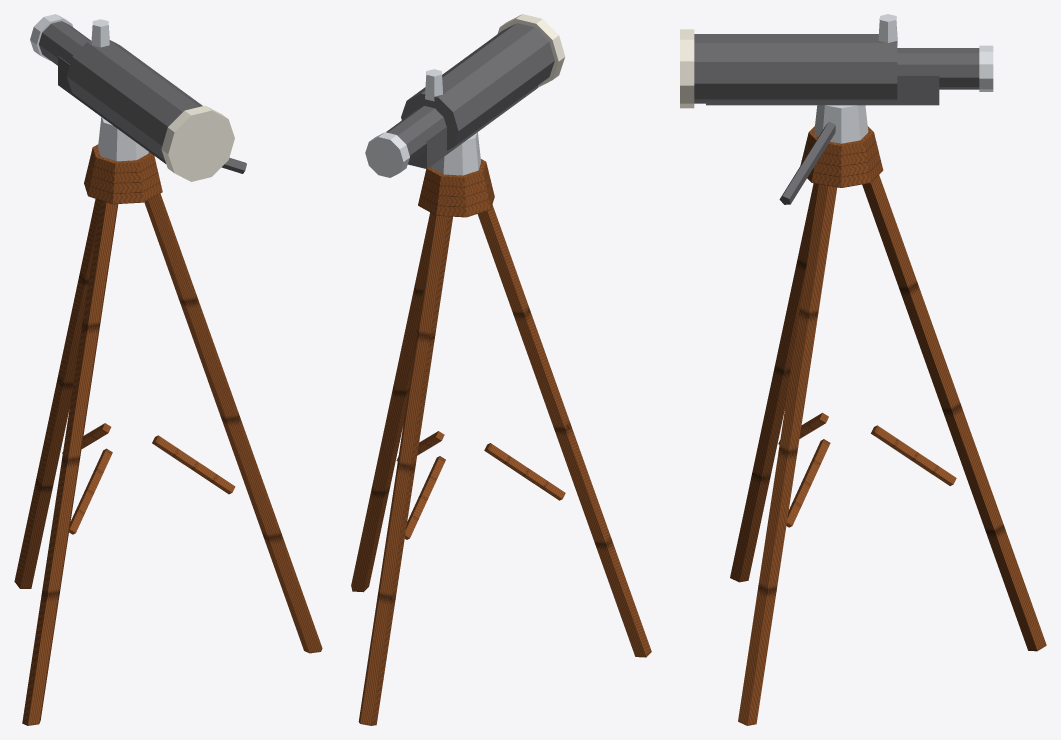
File: safari-camp-and-bush-lodge-spotting-scope-on-tripod-0c111e8c__37703.glb
3 renders of one model, left to right at view 1: azimuth 30°, elevation 25°; view 2: azimuth 150°, elevation 25°; view 3: azimuth 270°, elevation 25°, orthographic. The views are drawn at different scales.
Visible parts, largest first — view 1: spotting-scope-on-tripod-timber, head/charcoal, head/canvas, head/steel; view 2: spotting-scope-on-tripod-timber, head/charcoal, head/steel, head/canvas; view 3: spotting-scope-on-tripod-timber, head/charcoal, head/steel, head/canvas.
Part boxes in pixels (bbox=[...]): spotting-scope-on-tripod-timber: bbox=[14, 144, 322, 725]; head/charcoal: bbox=[38, 21, 246, 173]; head/canvas: bbox=[161, 105, 234, 181]; head/steel: bbox=[30, 14, 148, 161]; spotting-scope-on-tripod-timber: bbox=[351, 159, 651, 725]; head/charcoal: bbox=[386, 23, 554, 168]; head/steel: bbox=[365, 69, 480, 177]; head/canvas: bbox=[497, 14, 565, 87]; spotting-scope-on-tripod-timber: bbox=[730, 126, 1046, 725]; head/charcoal: bbox=[694, 34, 979, 204]; head/steel: bbox=[814, 14, 993, 143]; head/canvas: bbox=[680, 29, 694, 108].
Size of the model in its own units: 0.7671 by 1.5 by 0.7848.
Materials: 4 (1 with a texture image).
